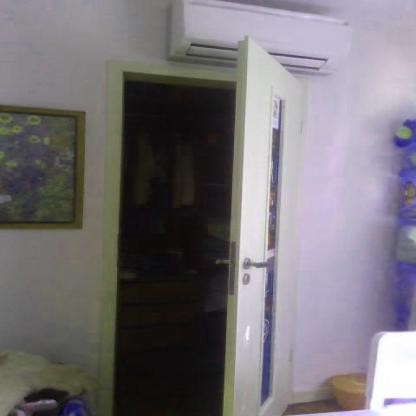door: (80, 36, 315, 414)
